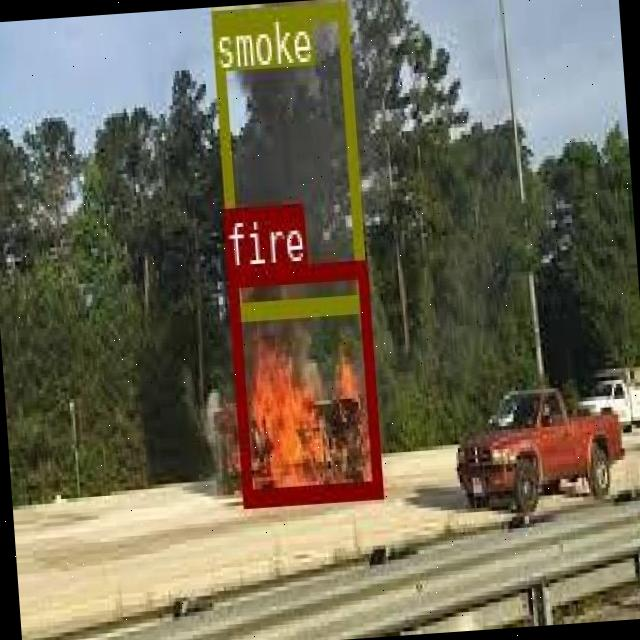fire: (225, 258, 380, 503)
smoke: (210, 0, 366, 315)
